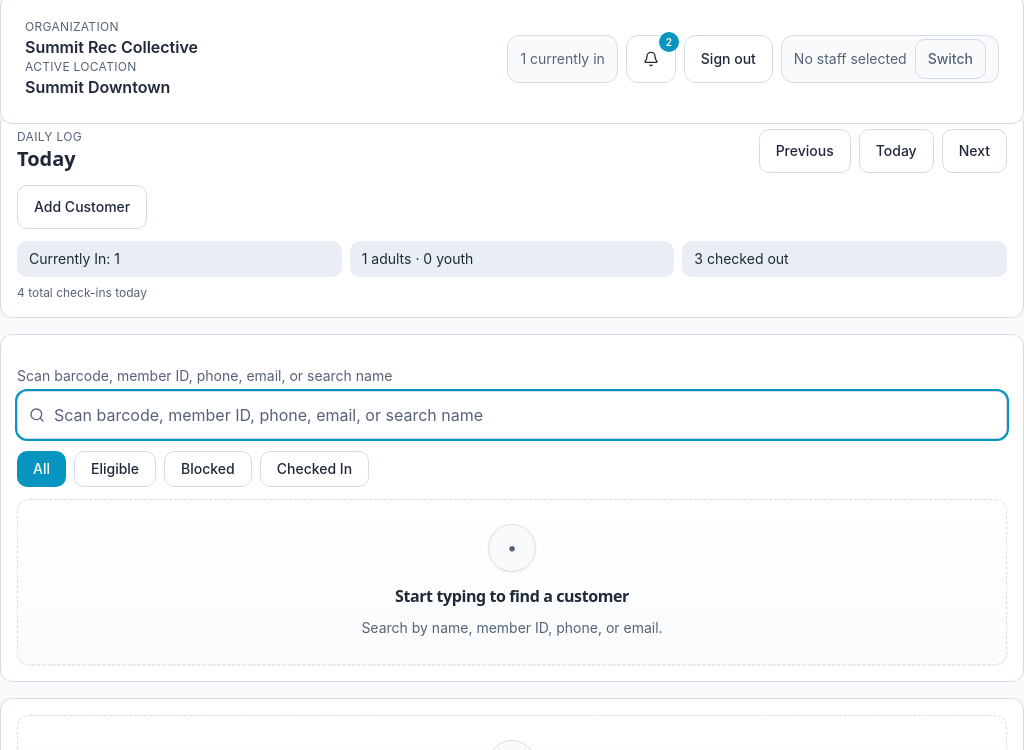
Test: Role visibility and permission safety › location-restricted staff cannot perform protected actions outside assigned location
The image size is (1024, 750).
Click the button "Switch" at (950, 59), box [915,39,986,79]
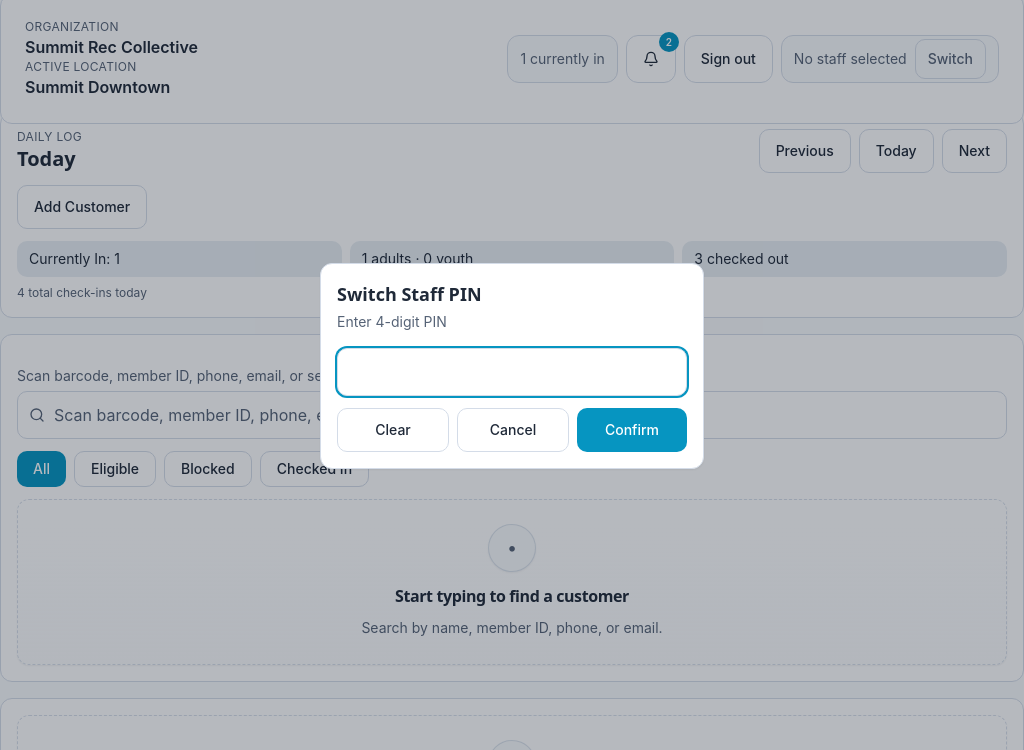
Type "7777" into the password field named "Staff PIN input" at (512, 372), box [337,348,687,396]
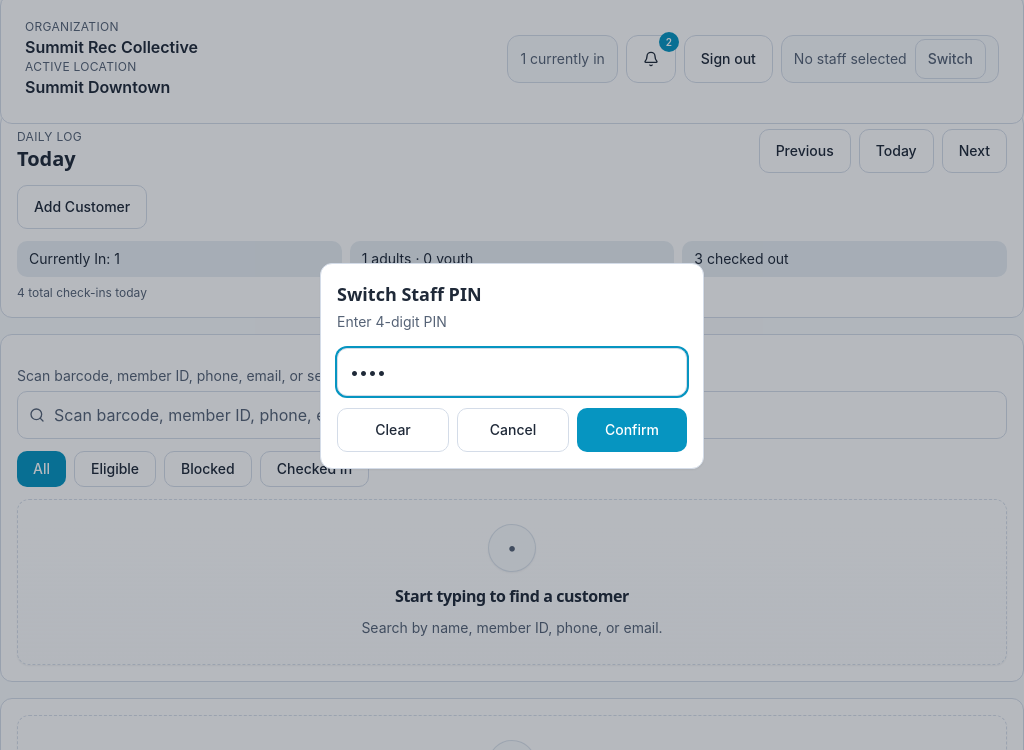
Click the button "Confirm" at (632, 430), box [577,408,687,452]
(page scrolled)
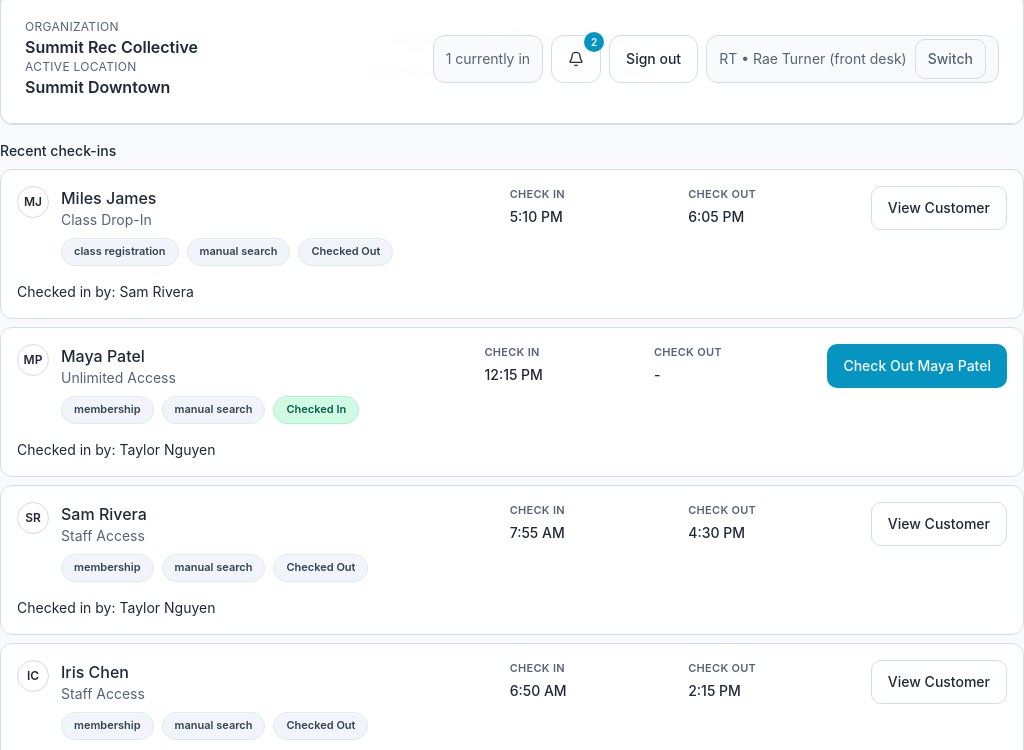
Click the button "Check Out Maya Patel" at (917, 366), box [827,344,1007,388]
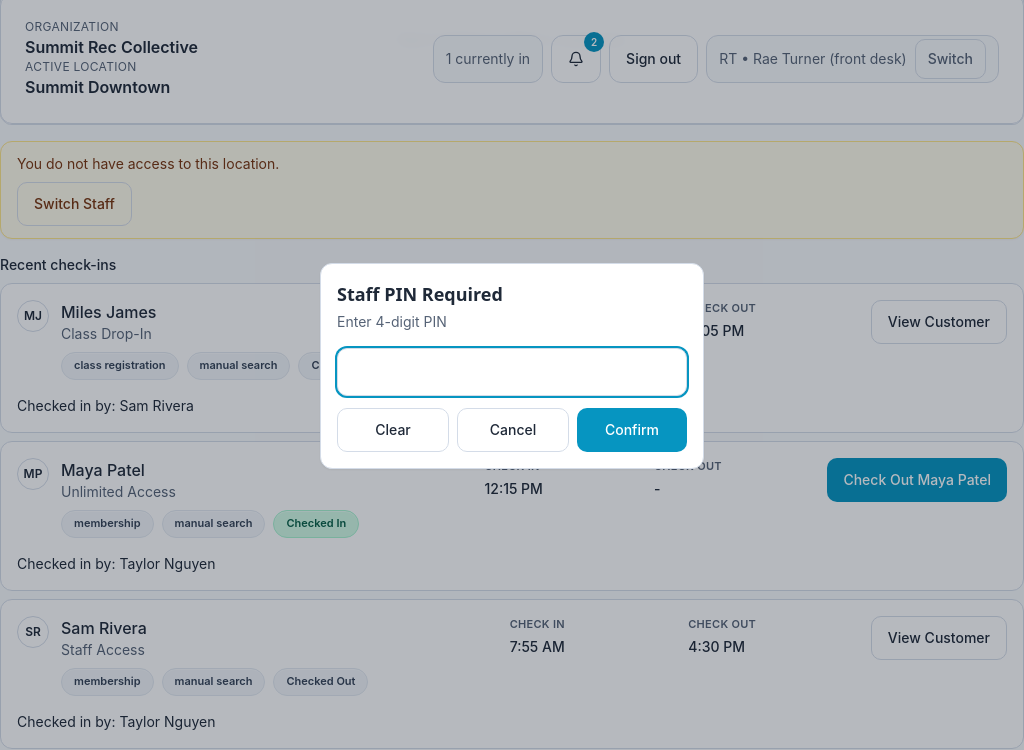
Expected: the message shows "You do not have access to this location.", [17,155,279,172]
